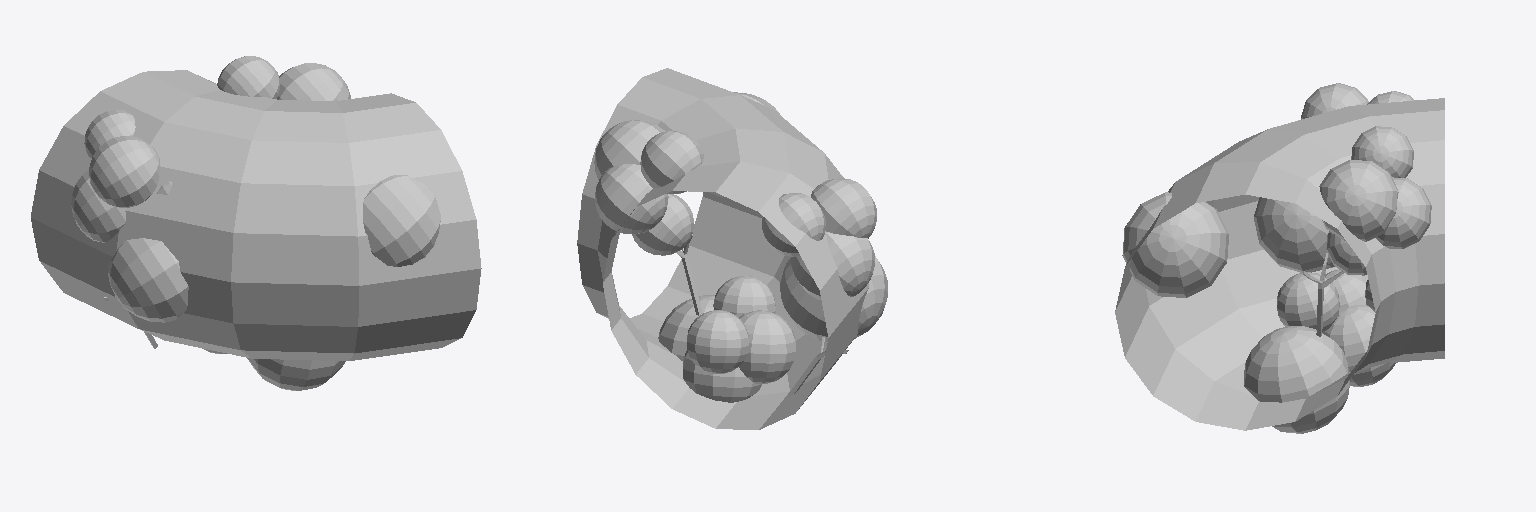
3 views of the same model, side by side, from view 1: azimuth 30°, elevation 25°; view 2: azimuth 150°, elevation 25°; view 3: azimuth 270°, elevation 25° (orthographic).
Parts seen in each view (by area): view 1: sCurve_B; view 2: sCurve_B; view 3: sCurve_B.
Boxes of the visible parts, box(x1,y1,x2,y2) form: sCurve_B: box(31, 56, 481, 390); sCurve_B: box(577, 68, 887, 429); sCurve_B: box(1115, 83, 1444, 433).
Size of the model in its own units: 104 by 103 by 104.